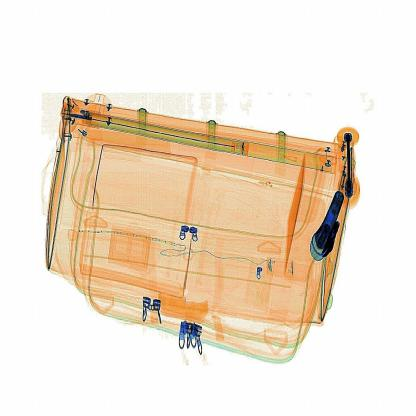knife: (322, 209, 342, 272)
